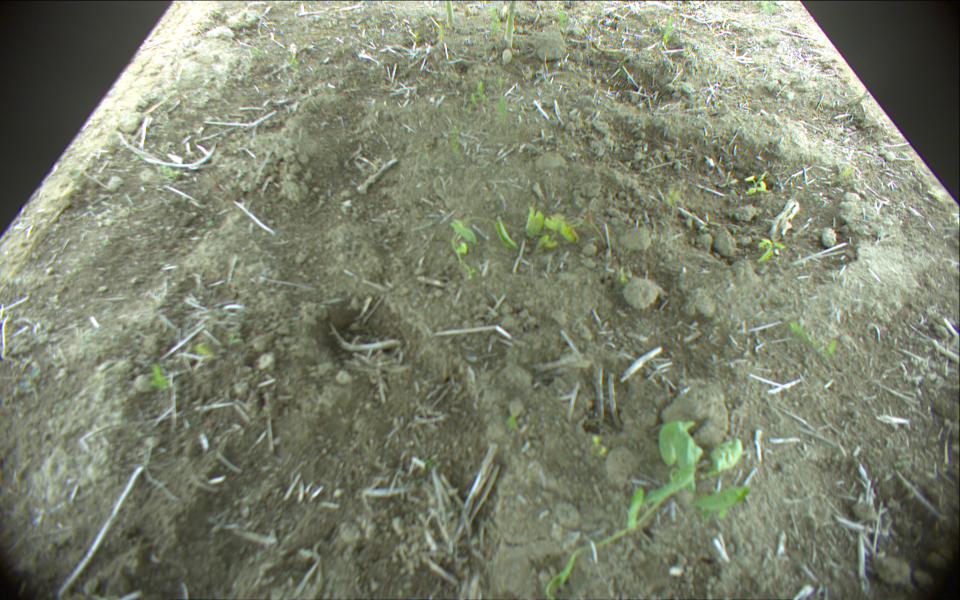aspa: (504, 1, 517, 45), (445, 1, 456, 23)
